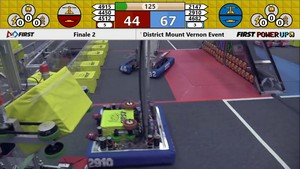cube: (8, 68, 95, 137), (103, 109, 135, 138), (75, 70, 97, 93), (88, 50, 105, 65), (81, 61, 99, 75)
